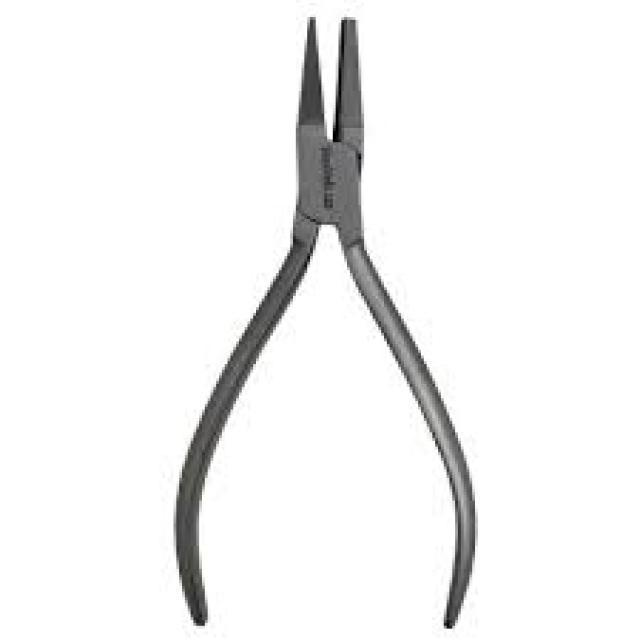pliers: (162, 10, 482, 640)
